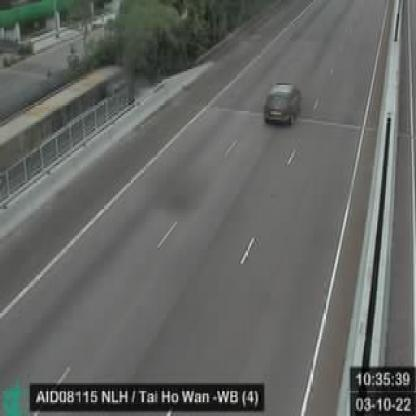Car: (263, 80, 300, 123)
